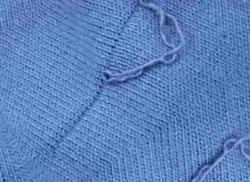snag: (93, 66, 134, 89)
